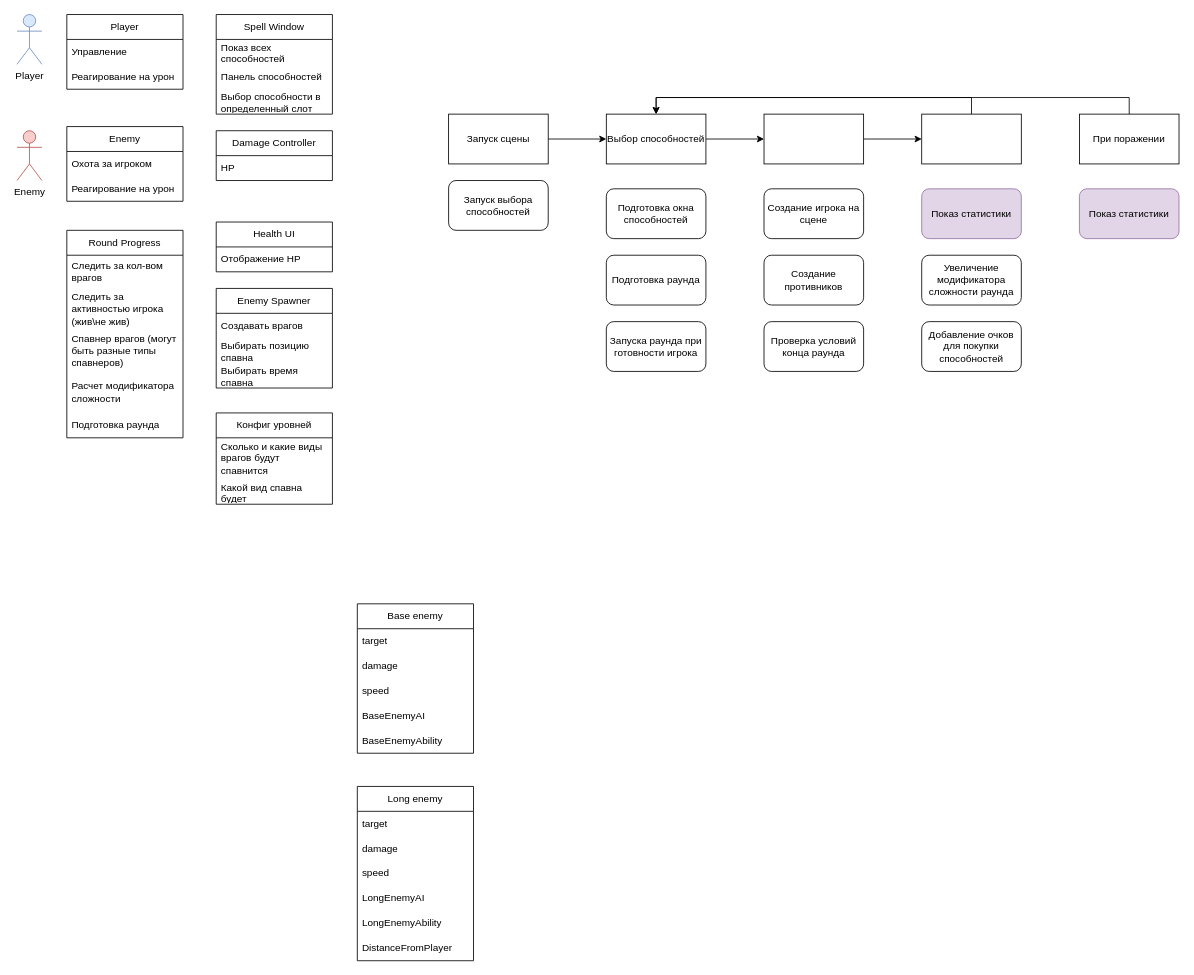
This 1194x975 diagram has some shape labels left out. The centre of each missing label's shape, as x and y in pixels:
"Конец раунда" belongs at (971,138).
"Начало раунда" belongs at (813,138).
